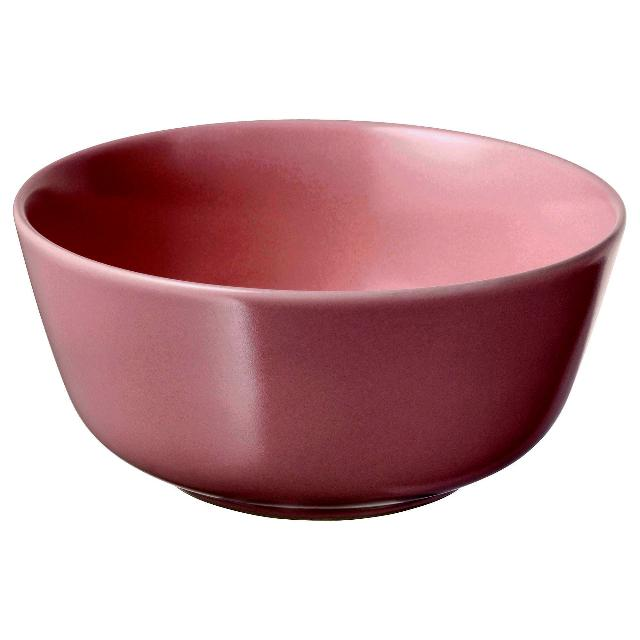Bowl: (16, 121, 624, 518)
